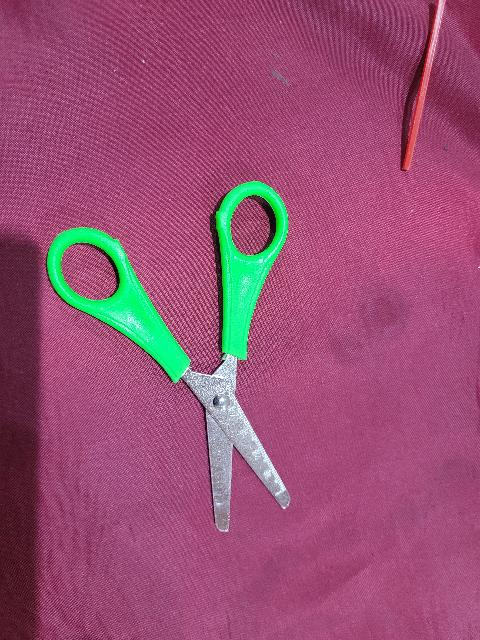Metal: (176, 360, 295, 544)
Plastik: (50, 187, 308, 364)
